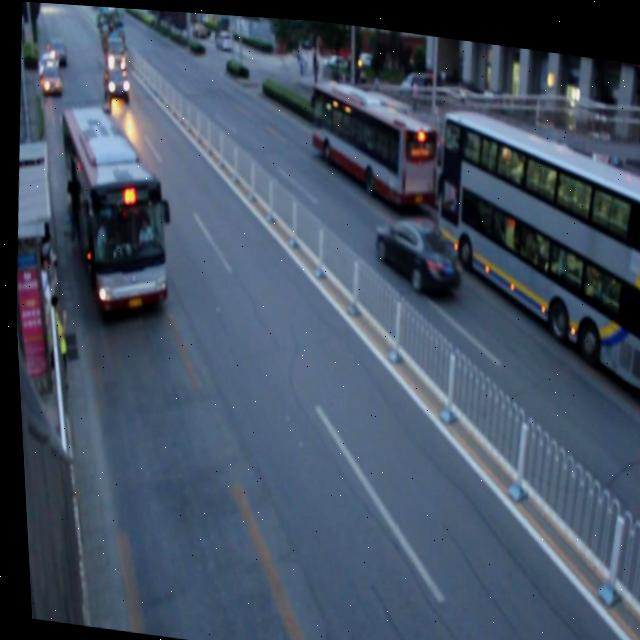car: (367, 205, 461, 289), (101, 60, 131, 103), (38, 62, 65, 94)
van: (423, 103, 640, 382), (45, 104, 178, 320), (304, 71, 440, 205)
